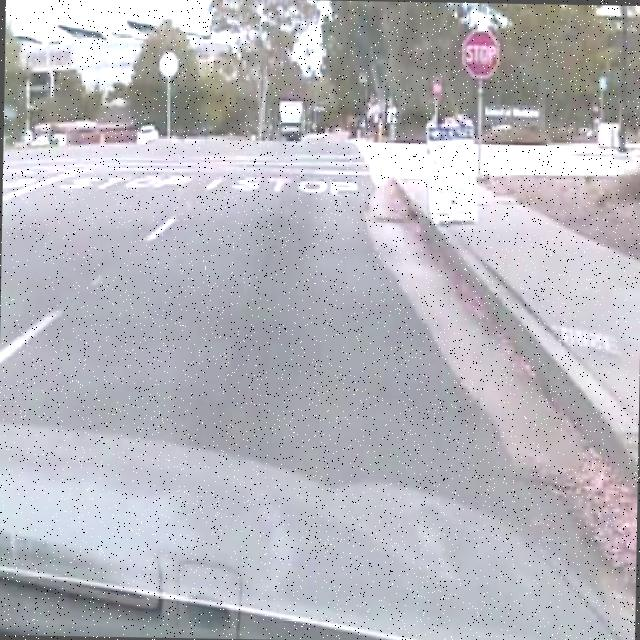Stop: (460, 27, 500, 82)
